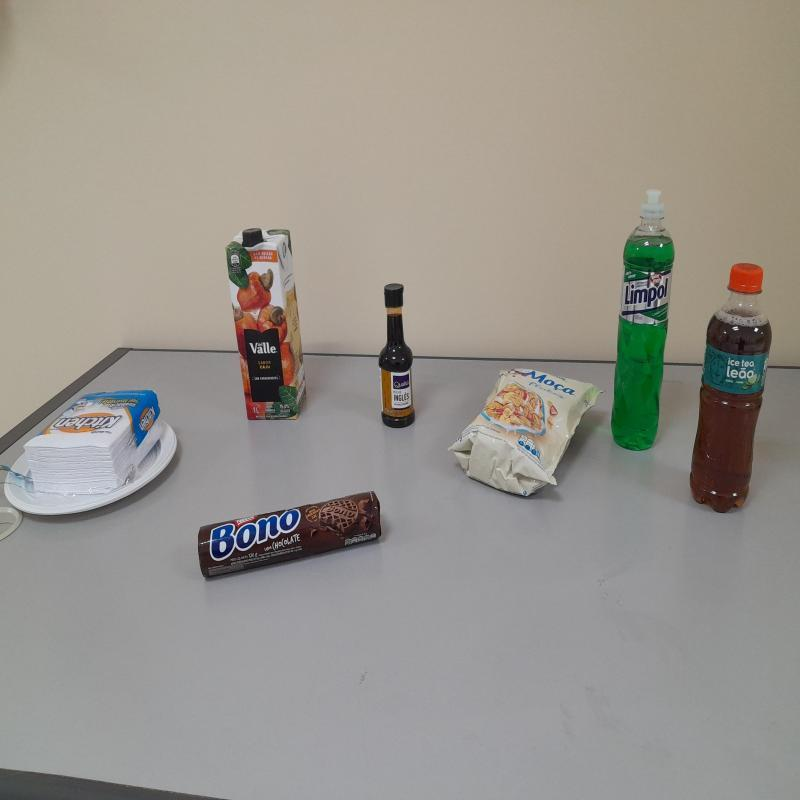Cleaner: (611, 191, 676, 455)
Cookies: (197, 494, 385, 582)
CornFlakes: (452, 372, 597, 500)
EnglishSauce: (376, 283, 416, 430)
IceTea: (691, 264, 773, 516)
